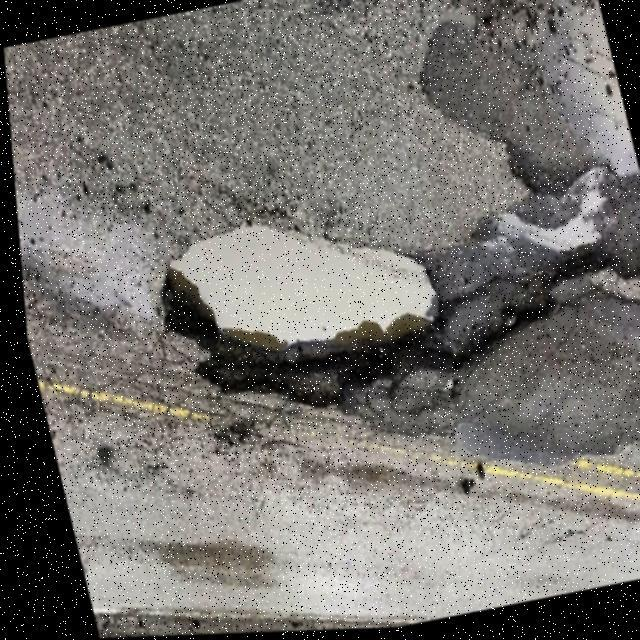pothole: (126, 178, 468, 474)
